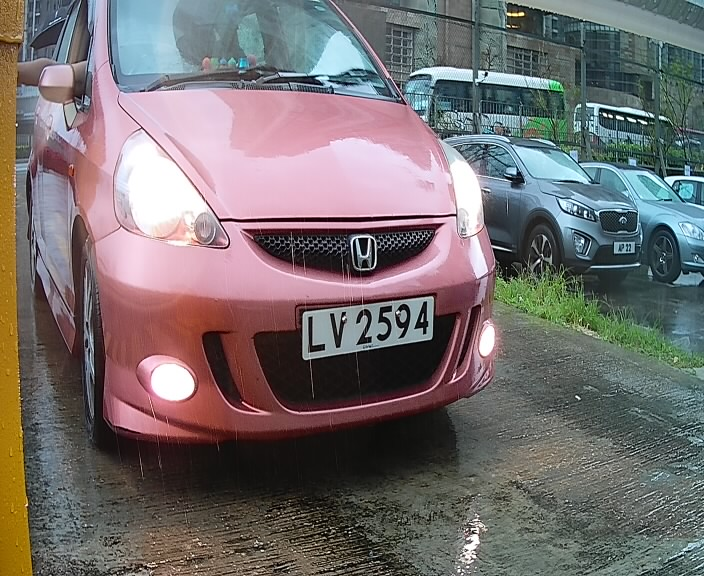License Plate: (287, 290, 442, 365)
